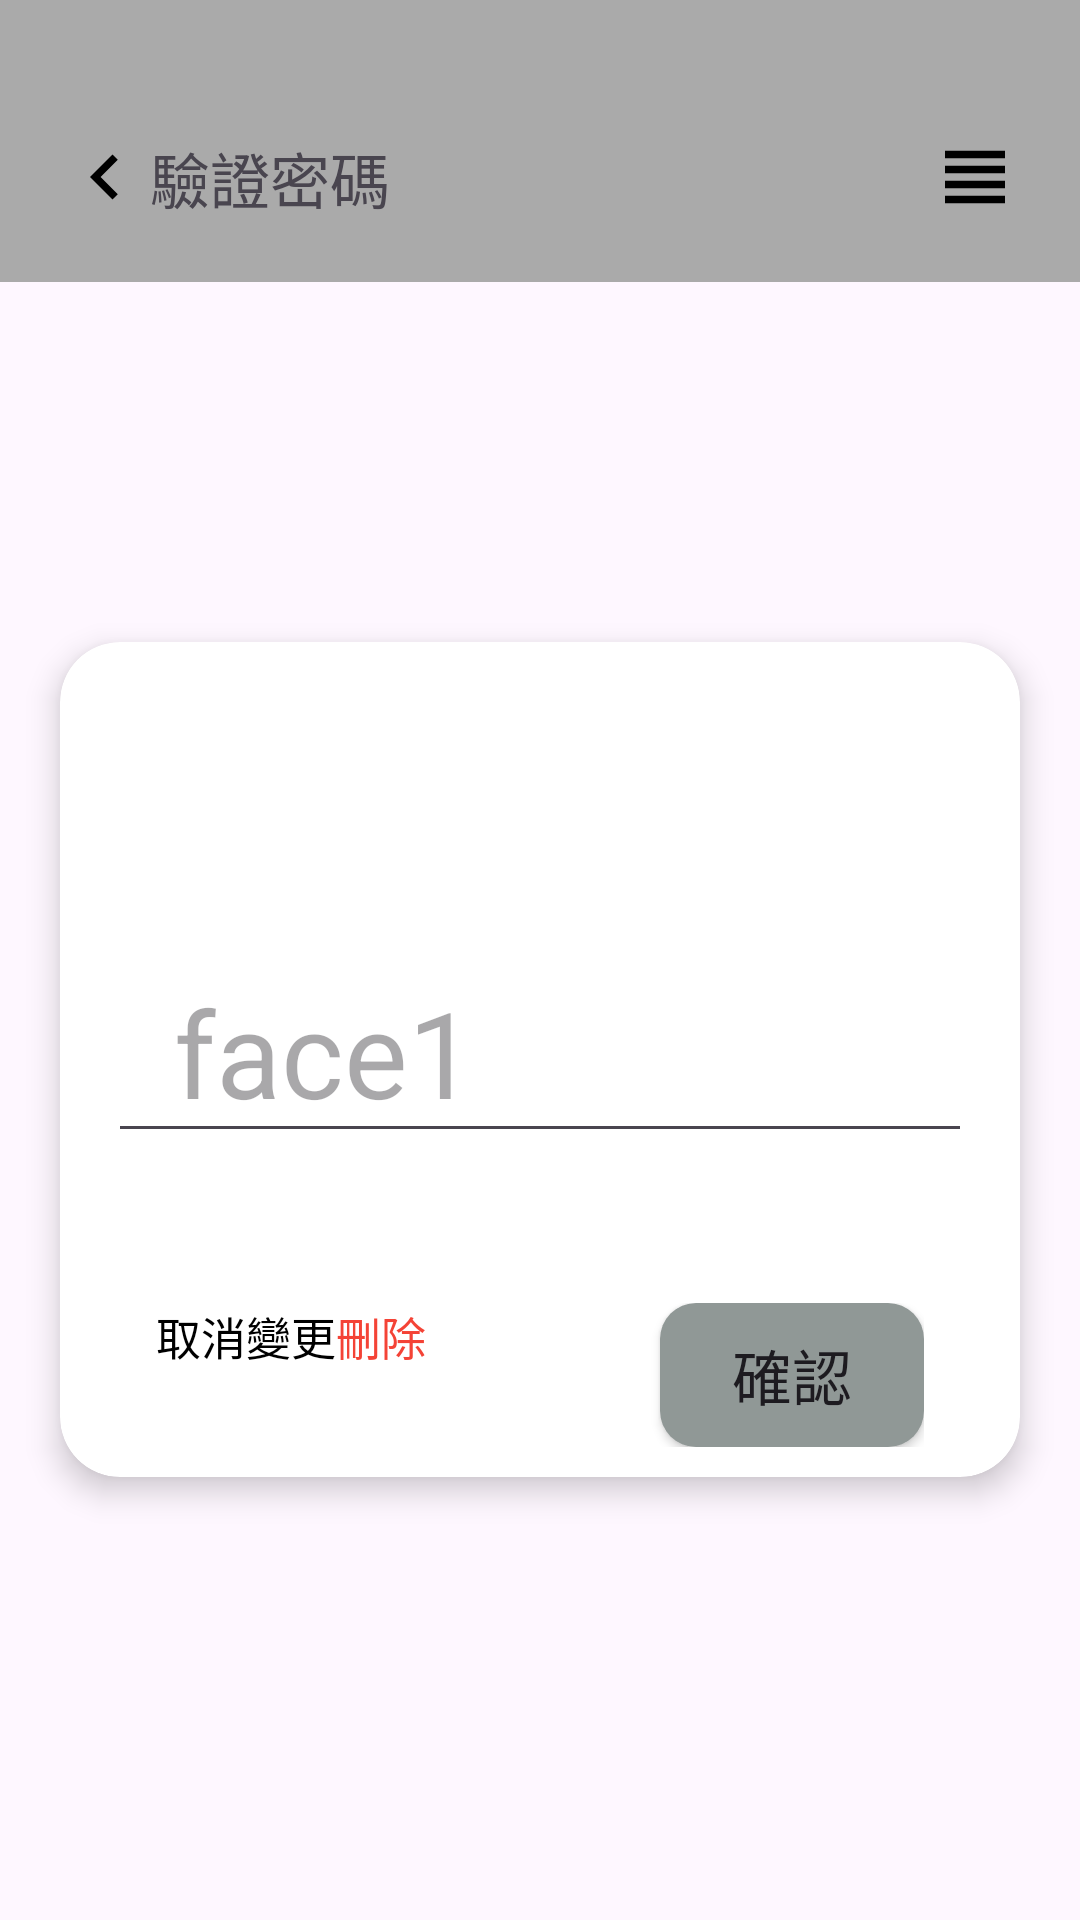

Icons on this 1080×1920 Android screen, each with the point to tap as (x=x, y=y):
上一頁: (x=104, y=177)
其他: (x=975, y=177)
